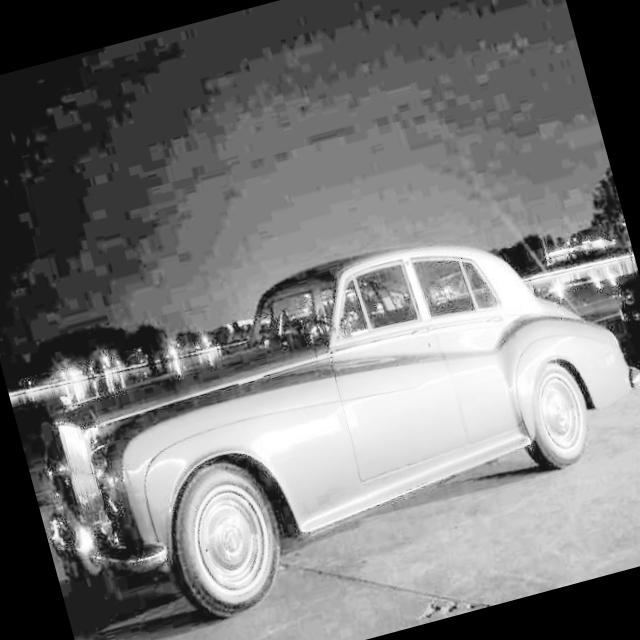Car: (10, 198, 640, 640)
